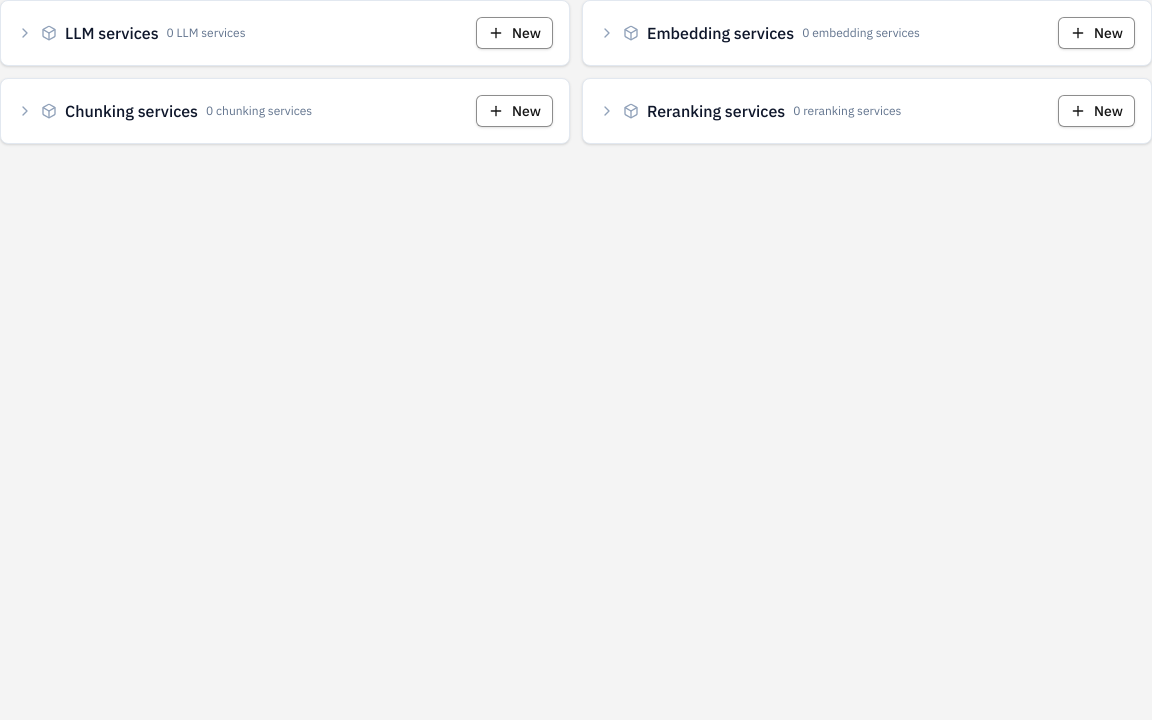
Scenario: ServicesPanel › opens the chunking create dialog with its engine and strategy fields
# Order in the DOM: LLM (0), embedding (1), chunking (2), reranking (3).
Click the 3rd button "New".
click(515, 111)  # box [476,95,553,127]
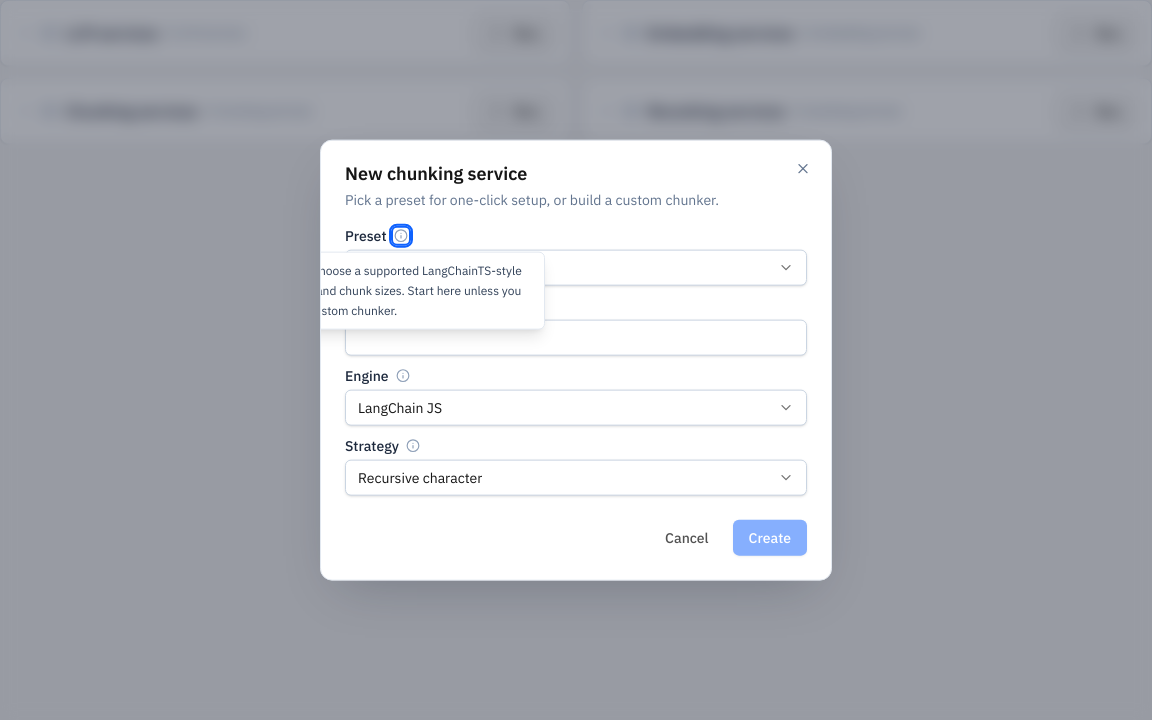
Check: the heading "New chunking service" is shown, box [345,162,527,185]
Check: the dropdown named "Engine" is shown, box [345,389,807,425]
Check: the dropdown named "Strategy" is shown, box [345,459,807,495]
